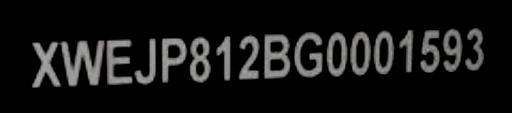letter: (58, 38, 106, 91), (25, 38, 63, 89), (292, 27, 326, 80), (157, 35, 189, 88), (260, 31, 292, 82), (102, 35, 134, 86), (234, 33, 262, 86), (132, 33, 158, 88), (324, 27, 352, 78), (186, 33, 212, 84), (462, 26, 490, 71), (348, 27, 372, 78), (374, 27, 398, 76), (396, 25, 418, 76), (418, 28, 442, 73), (442, 25, 464, 74), (214, 33, 234, 84)
